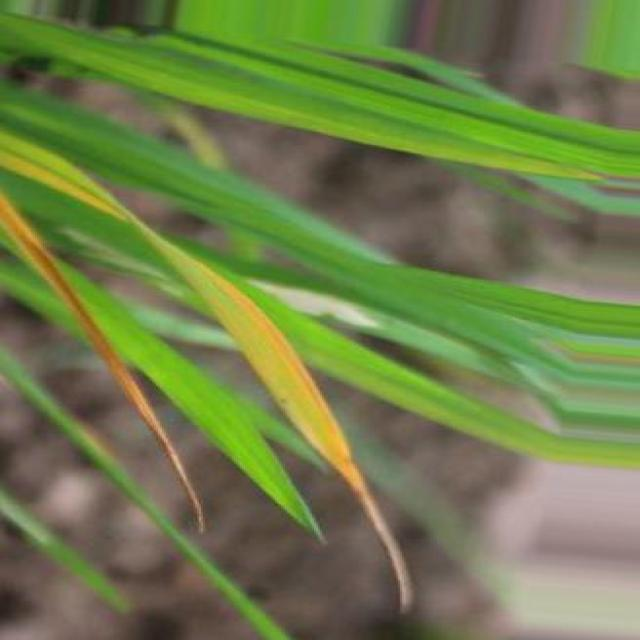Rice Tungro: (4, 137, 410, 608), (1, 195, 203, 531)
